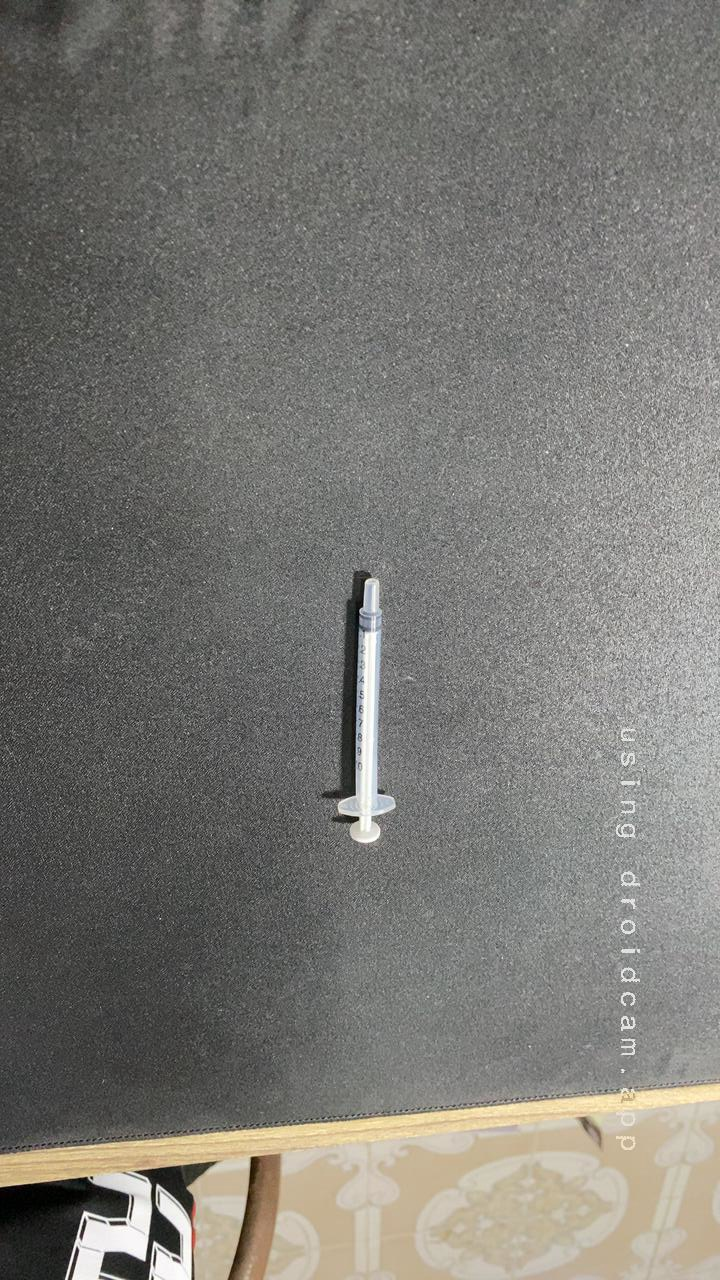syringe: (303, 562, 428, 854)
